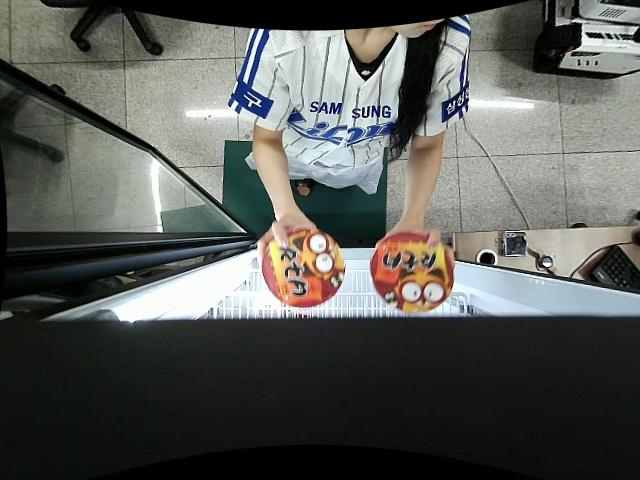00_hand: (375, 213, 455, 271), (257, 214, 321, 265)
05_nuguri_L: (369, 233, 455, 313), (262, 228, 347, 307)
